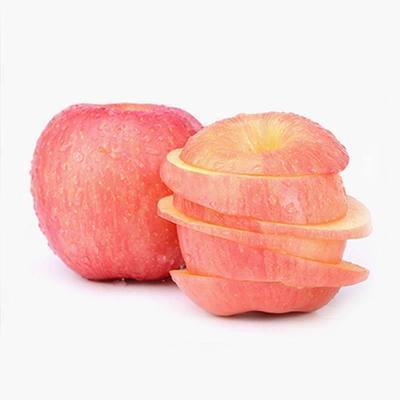apple: (159, 111, 372, 323), (29, 101, 205, 285)
